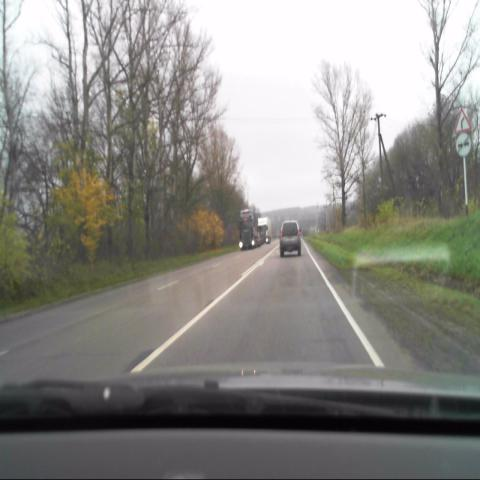3_21: (456, 134, 472, 158)
